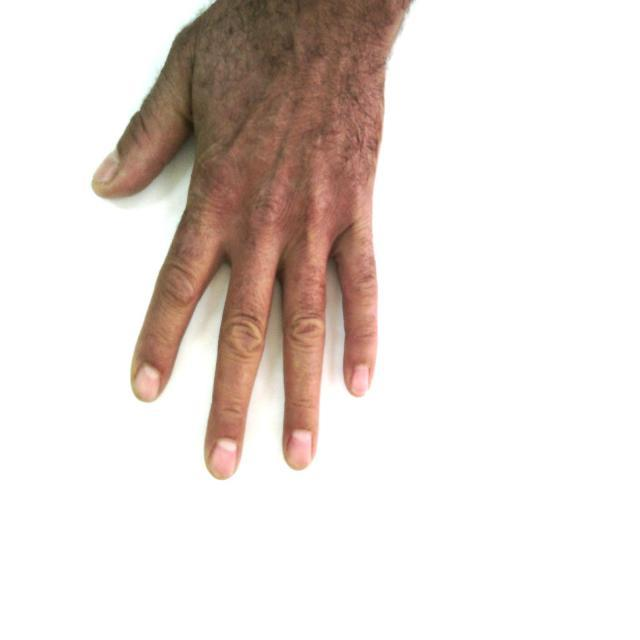Fingernail: (211, 440, 237, 479), (288, 429, 311, 469), (135, 365, 160, 399), (94, 152, 118, 184), (352, 365, 368, 396)
